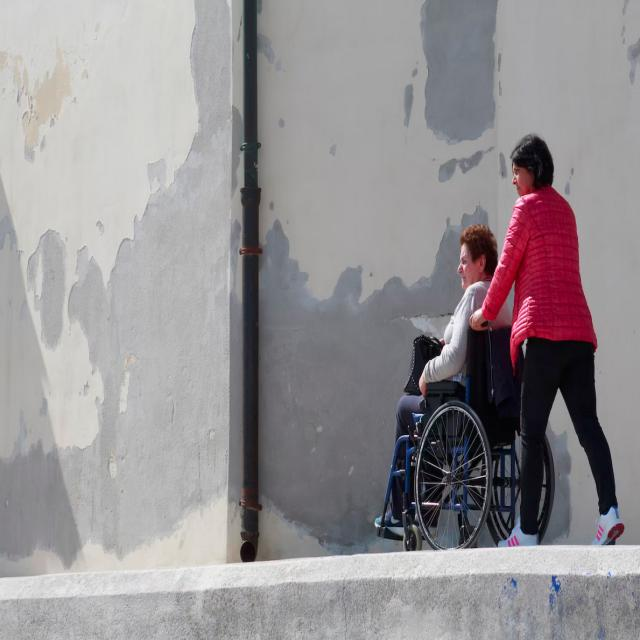wheelchairs: (375, 316, 556, 550)
